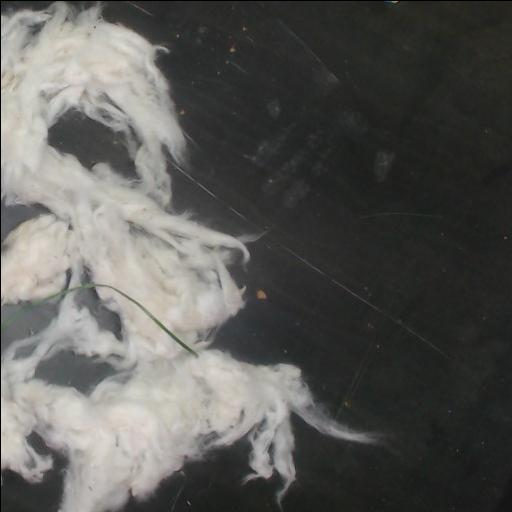conveyor belt: (106, 1, 512, 512), (145, 450, 275, 512)
cotton: (1, 3, 374, 512)
thread: (73, 283, 197, 357)
